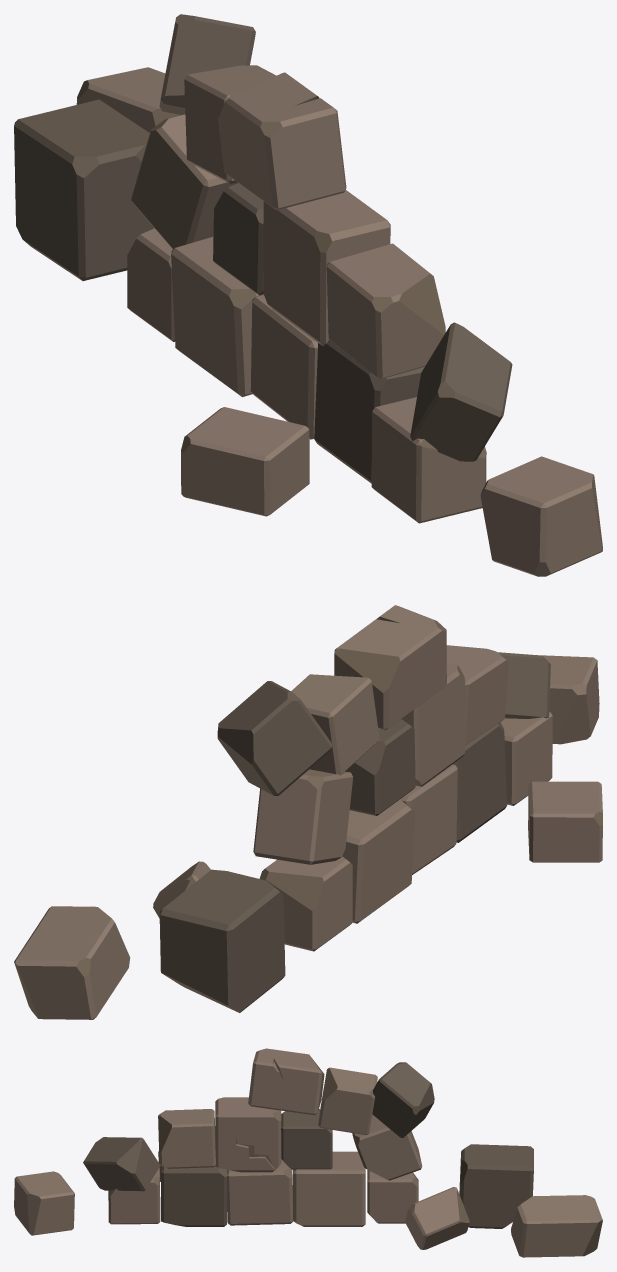
Rendered from StonesBroken.fbx.
3 renders of one model, top to bottom at view 1: azimuth 30°, elevation 25°; view 2: azimuth 150°, elevation 25°; view 3: azimuth 270°, elevation 25°, orthographic. The views are drawn at different scales.
Visible parts, largest first — view 1: Cube.015; view 2: Cube.015; view 3: Cube.015.
Part boxes in pixels (x1=…): Cube.015: x1=14, y1=14, x2=602, y2=576; Cube.015: x1=14, y1=605, x2=602, y2=1019; Cube.015: x1=14, y1=1048, x2=602, y2=1257.
Bounding box in the file's own units: 426 × 346 × 1107.
